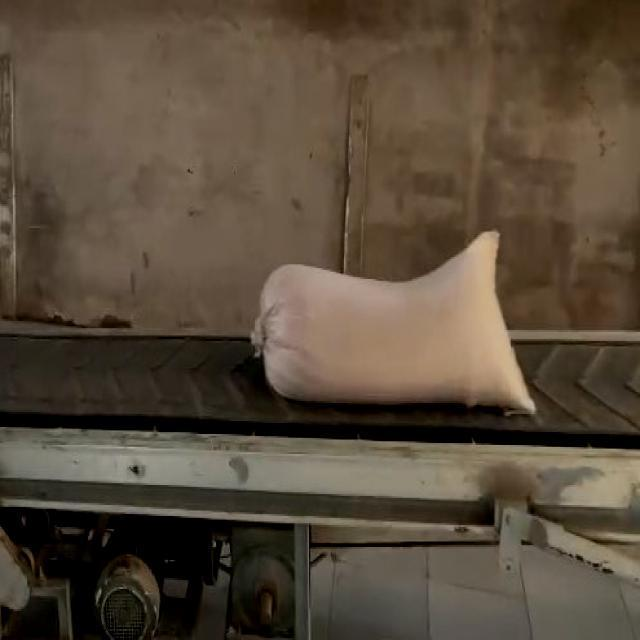gunny_bag: (251, 232, 535, 414)
